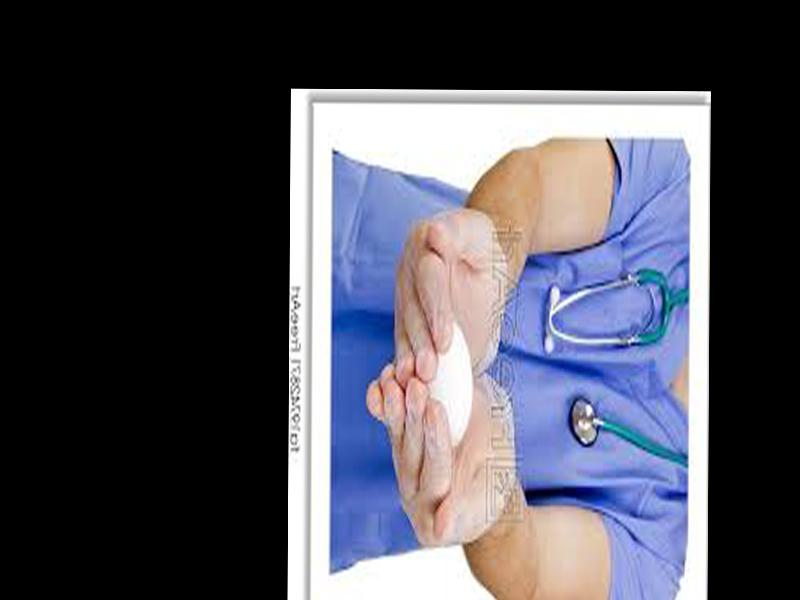Eggs: (424, 321, 473, 443)
